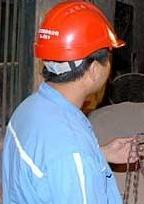boots: (1, 1, 1, 1)
hard-hat: (33, 0, 126, 61)
ppe-suit: (0, 81, 124, 203)
